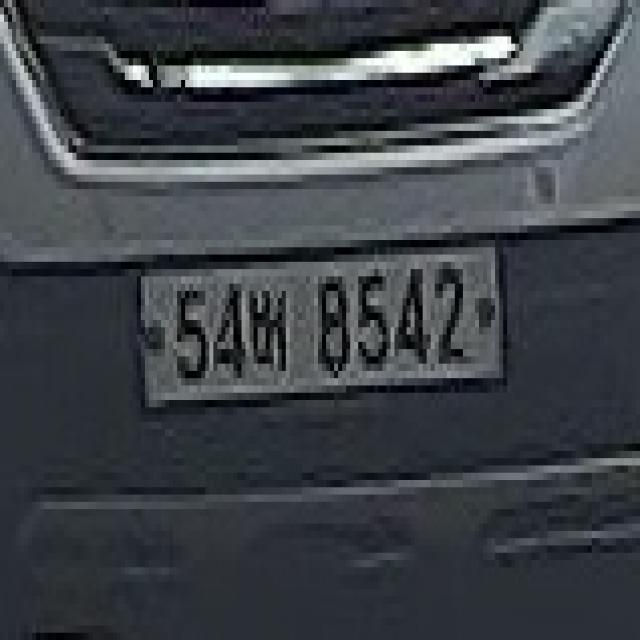2: (431, 262, 471, 371)
4: (209, 247, 258, 400), (390, 262, 431, 378)
5: (354, 247, 390, 400), (173, 254, 213, 386)
8: (306, 255, 358, 378)
beo: (241, 269, 294, 378)
license_plate: (133, 225, 515, 408)
